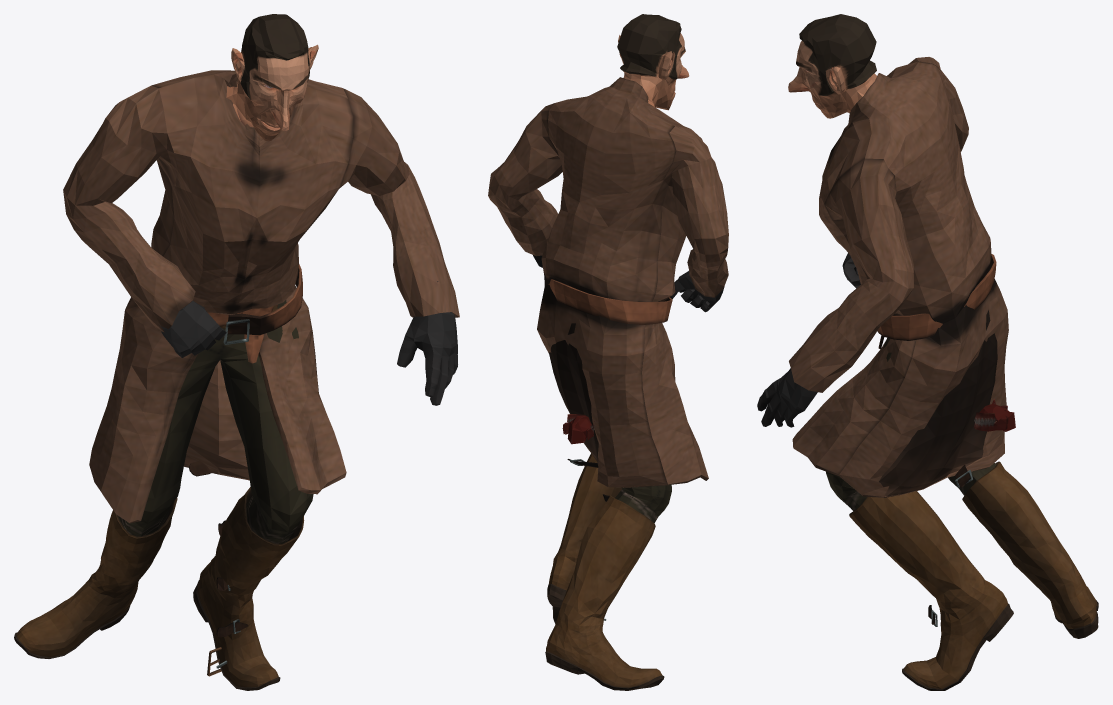
The model's file is sniper01.obj.
3 views of the same model, side by side, from view 1: azimuth 30°, elevation 25°; view 2: azimuth 150°, elevation 25°; view 3: azimuth 270°, elevation 25° (orthographic). The views are drawn at different scales.
Visible parts, largest first — view 1: Tops, Shoes, Bottoms, BodyParts; view 2: Tops, Shoes, BodyParts, Bottoms; view 3: Tops, Shoes, BodyParts, Bottoms.
Part boxes in pixels (box(x1,y1,x2,y2)): Tops: box(63, 70, 459, 668); Shoes: box(14, 487, 304, 690); Bottoms: box(118, 300, 313, 676); BodyParts: box(158, 14, 457, 405); Tops: box(488, 77, 728, 620); Shoes: box(545, 453, 664, 690); BodyParts: box(533, 14, 724, 444); Bottoms: box(615, 485, 671, 522); Tops: box(789, 57, 1008, 626); Shoes: box(849, 461, 1098, 690); BodyParts: box(757, 14, 1015, 431); Bottoms: box(826, 338, 996, 510).
Size of the model in its own units: 1.15 by 2.44 by 1.16.
